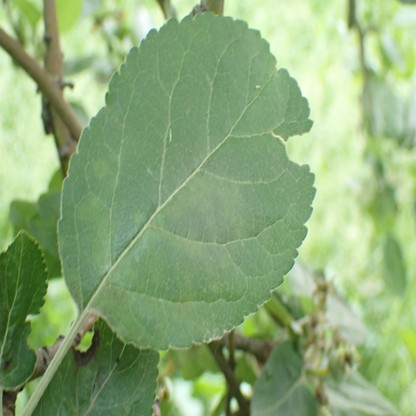frogeye_leaf_spot: (5, 357, 12, 369)
scab: (95, 269, 148, 344), (78, 197, 111, 270), (164, 175, 213, 217), (142, 225, 203, 254), (220, 181, 246, 237), (176, 254, 195, 317), (73, 326, 99, 367), (66, 271, 82, 303), (201, 201, 216, 235), (202, 266, 218, 293), (93, 159, 110, 178), (134, 211, 142, 222)
